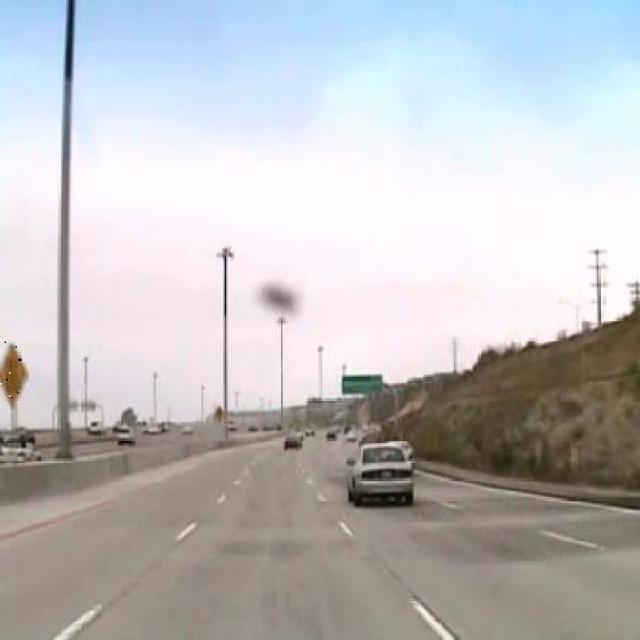laneEnds: (0, 342, 29, 406)
